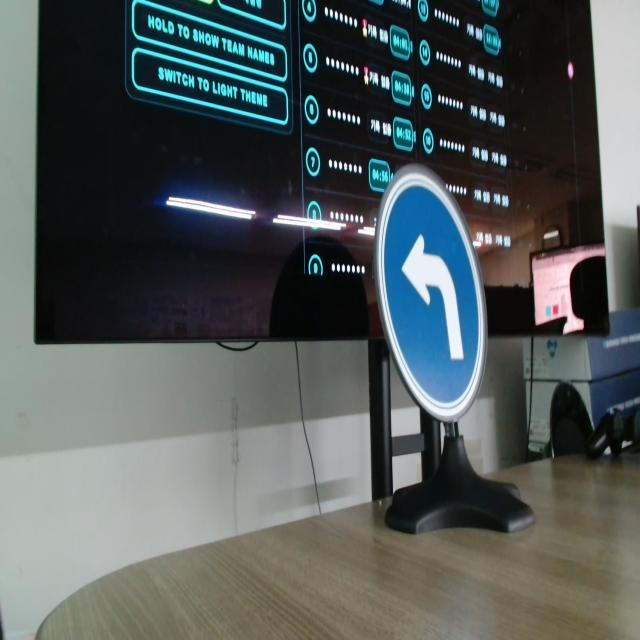left_direction: (368, 170, 492, 428)
